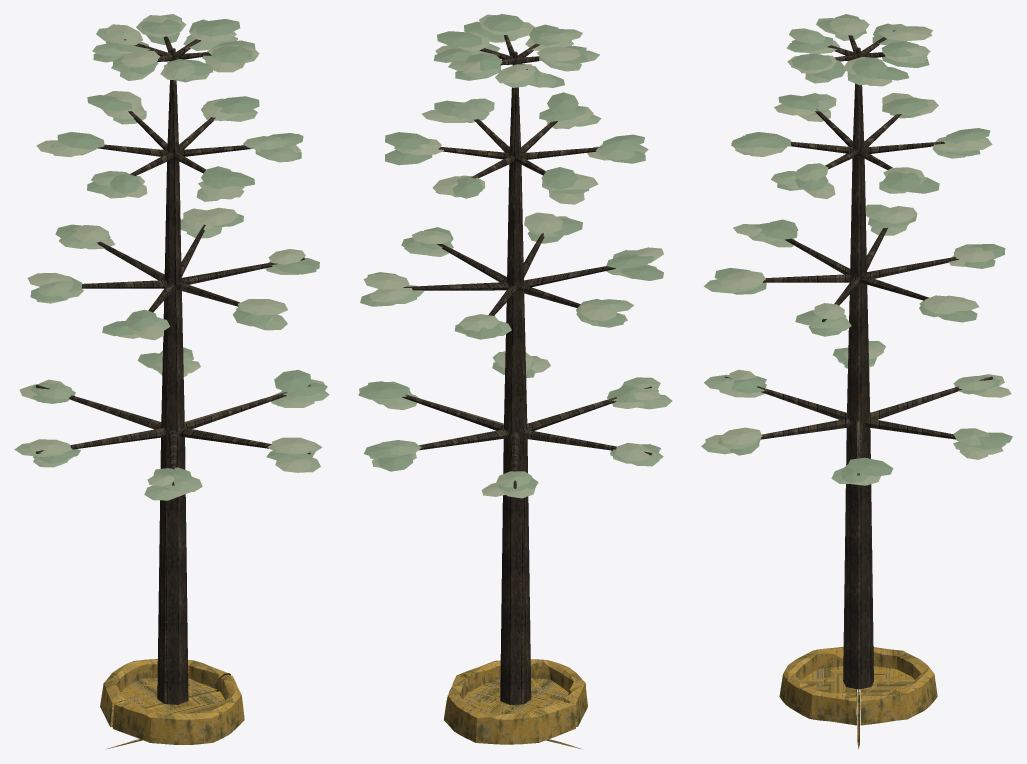
The model's file is planter_tree_street_reduced.glb.
3 renders of one model, left to right at view 1: azimuth 30°, elevation 25°; view 2: azimuth 150°, elevation 25°; view 3: azimuth 270°, elevation 25°, orthographic. The views are drawn at different scales.
Parts seen in each view (by area): view 1: StraightTrunkAndTiers, BroadLeaves_0, BroadLeaves_2, ConcretePlanter, BroadLeaves_1; view 2: StraightTrunkAndTiers, BroadLeaves_0, BroadLeaves_2, ConcretePlanter, BroadLeaves_1; view 3: StraightTrunkAndTiers, BroadLeaves_0, BroadLeaves_2, ConcretePlanter, BroadLeaves_1.
Boxes of the visible parts, x1,y1,x2,y2 form: StraightTrunkAndTiers: [35, 36, 310, 704]; BroadLeaves_0: [30, 19, 327, 490]; BroadLeaves_2: [19, 15, 326, 496]; ConcretePlanter: [100, 659, 244, 749]; BroadLeaves_1: [14, 14, 329, 500]; StraightTrunkAndTiers: [402, 35, 651, 704]; BroadLeaves_0: [358, 14, 663, 492]; BroadLeaves_2: [359, 14, 663, 498]; ConcretePlanter: [444, 659, 587, 748]; BroadLeaves_1: [373, 29, 672, 487]; StraightTrunkAndTiers: [724, 30, 992, 689]; BroadLeaves_0: [714, 14, 1012, 483]; BroadLeaves_2: [705, 18, 1011, 485]; ConcretePlanter: [779, 646, 937, 748]; BroadLeaves_1: [701, 18, 1005, 483].
Size of the model in its own units: 1.83 by 4 by 1.68.
5 materials, 2 textured.
